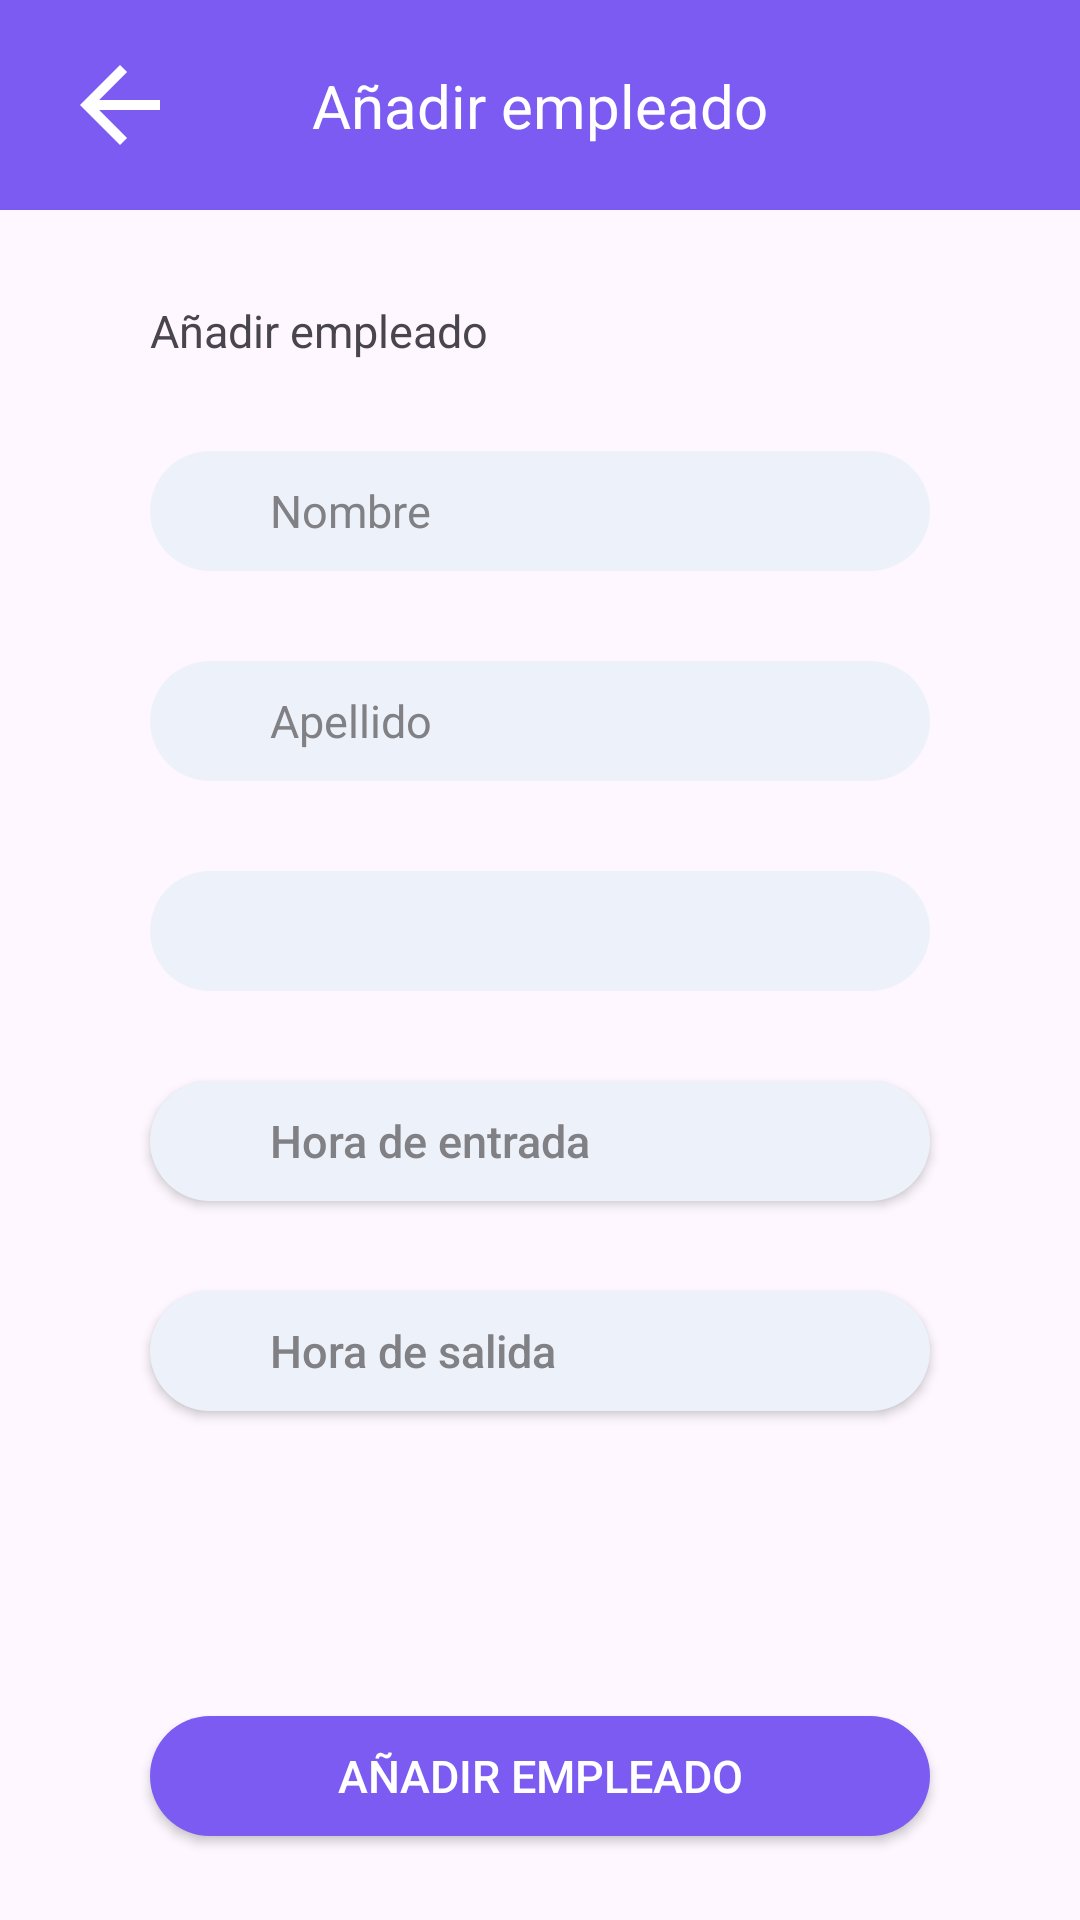

Where to tap for icons on this 1080 x 1920 app screen, as (x=x, y=y):
back arrow: (x=120, y=105)
